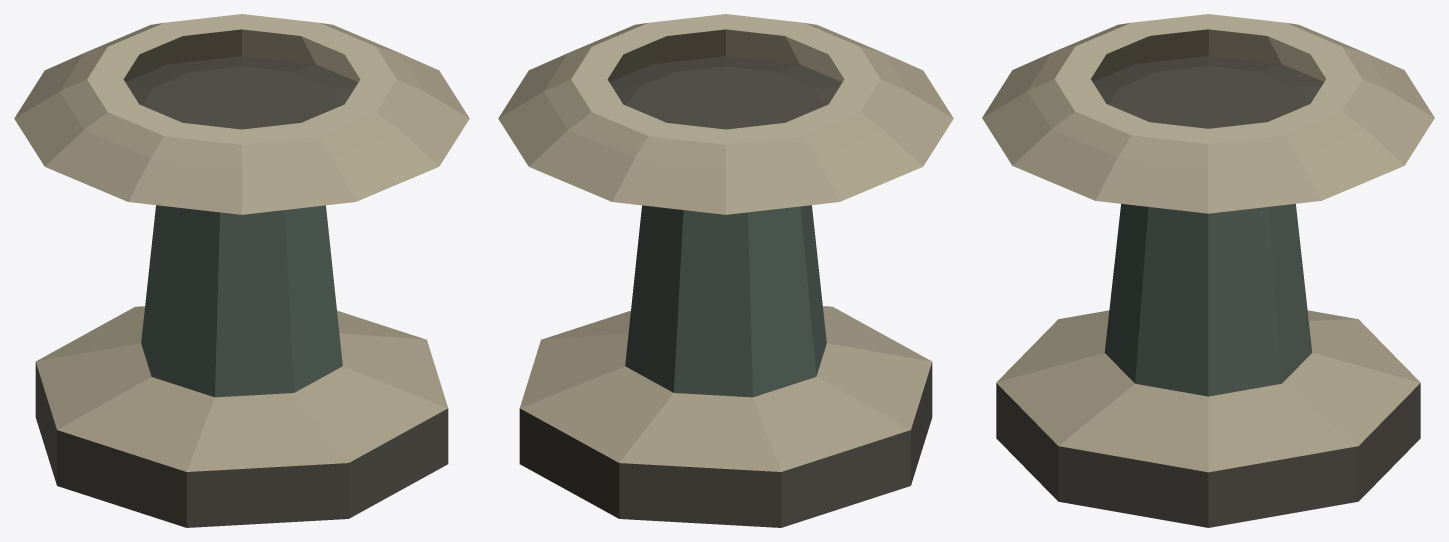
The model's file is birdbath.glb.
The picture shows the model from 3 angles, left to right: view 1: azimuth 30°, elevation 25°; view 2: azimuth 150°, elevation 25°; view 3: azimuth 270°, elevation 25°; orthographic projection.
Visible parts, largest first — view 1: birdbath__body; view 2: birdbath__body; view 3: birdbath__body.
Part boxes in pixels (x1=…): birdbath__body: x1=14, y1=14, x2=469, y2=527; birdbath__body: x1=498, y1=14, x2=953, y2=527; birdbath__body: x1=982, y1=14, x2=1434, y2=527.
Bounding box in the file's own units: 0.96 × 0.84 × 0.96.
